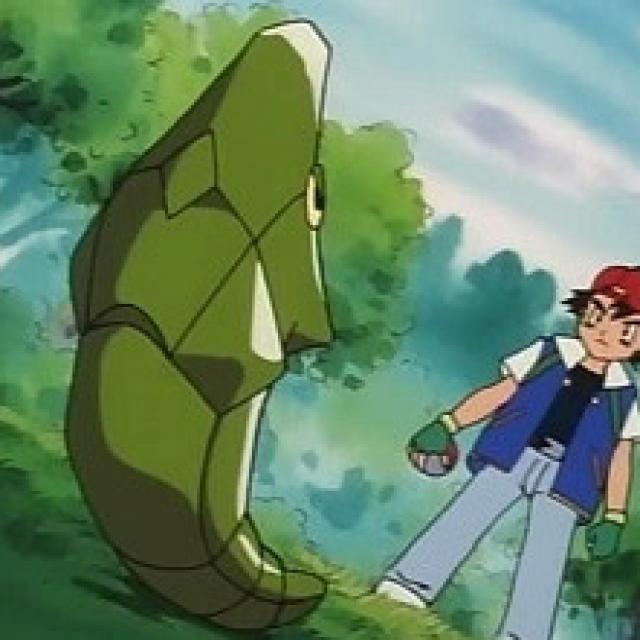Metapod: (53, 14, 367, 630)
